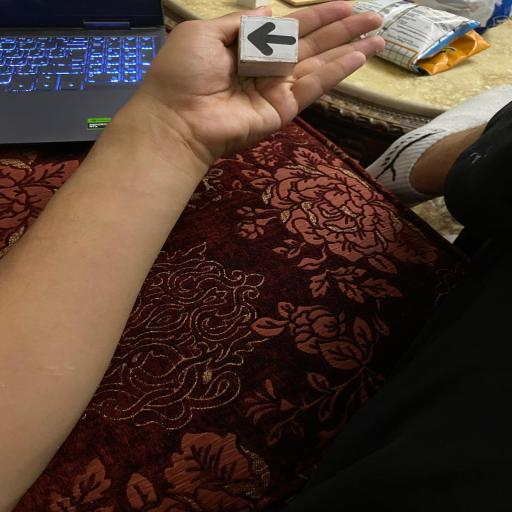Back: (235, 13, 303, 77)
